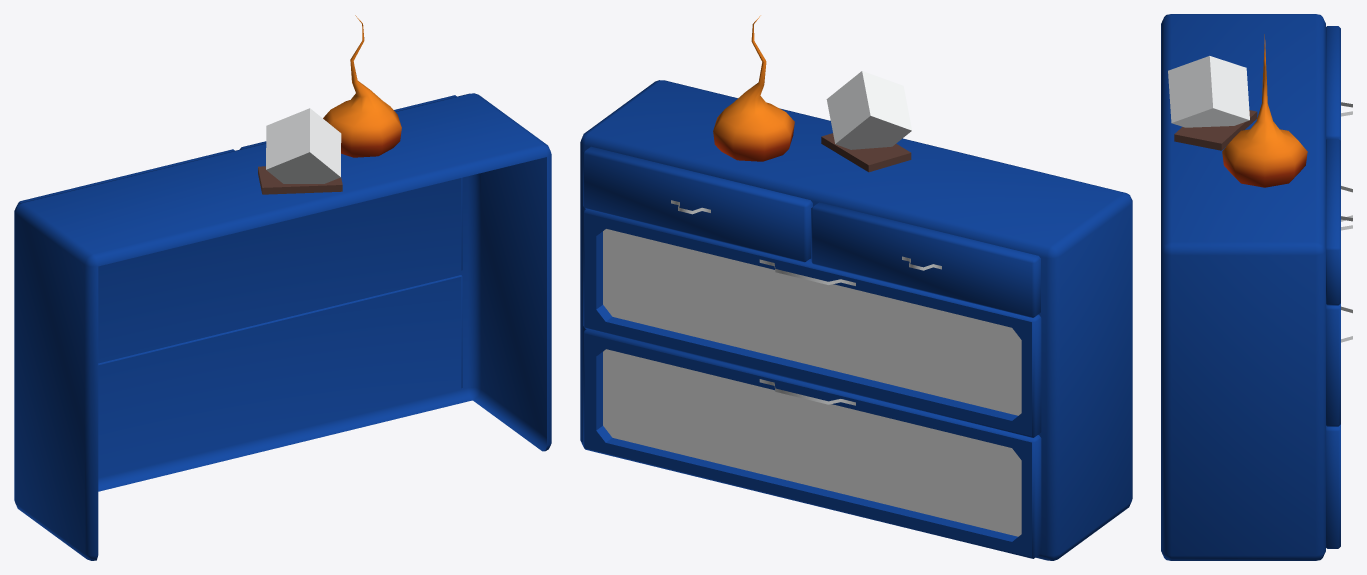
The model's file is M_ruhugui04.FBX.
The picture shows the model from 3 angles, left to right: view 1: azimuth 30°, elevation 25°; view 2: azimuth 150°, elevation 25°; view 3: azimuth 270°, elevation 25°; orthographic projection. The views are drawn at different scales.
Visible parts, largest first — view 1: M_ruhugui04_01, M_ruhugui04_05, M_ruhugui04_04, M_ruhugui04_06; view 2: M_ruhugui04_01, M_ruhugui04_02, M_ruhugui04_05, M_ruhugui04_04, M_ruhugui04_06; view 3: M_ruhugui04_01, M_ruhugui04_05, M_ruhugui04_04, M_ruhugui04_06.
Part boxes in pixels (box(x1,y1,x2,y2)): M_ruhugui04_01: box(14, 93, 551, 560); M_ruhugui04_05: box(266, 108, 341, 183); M_ruhugui04_04: box(323, 15, 401, 157); M_ruhugui04_06: box(258, 166, 342, 194); M_ruhugui04_01: box(580, 80, 1132, 560); M_ruhugui04_02: box(603, 229, 1021, 536); M_ruhugui04_05: box(671, 71, 941, 405); M_ruhugui04_04: box(713, 15, 794, 161); M_ruhugui04_06: box(821, 133, 911, 172); M_ruhugui04_01: box(1161, 14, 1340, 560); M_ruhugui04_05: box(1168, 56, 1352, 342); M_ruhugui04_04: box(1222, 34, 1307, 187); M_ruhugui04_06: box(1174, 110, 1257, 150).
Bounding box in the file's own units: 2.03 × 1.83 × 0.6957.
